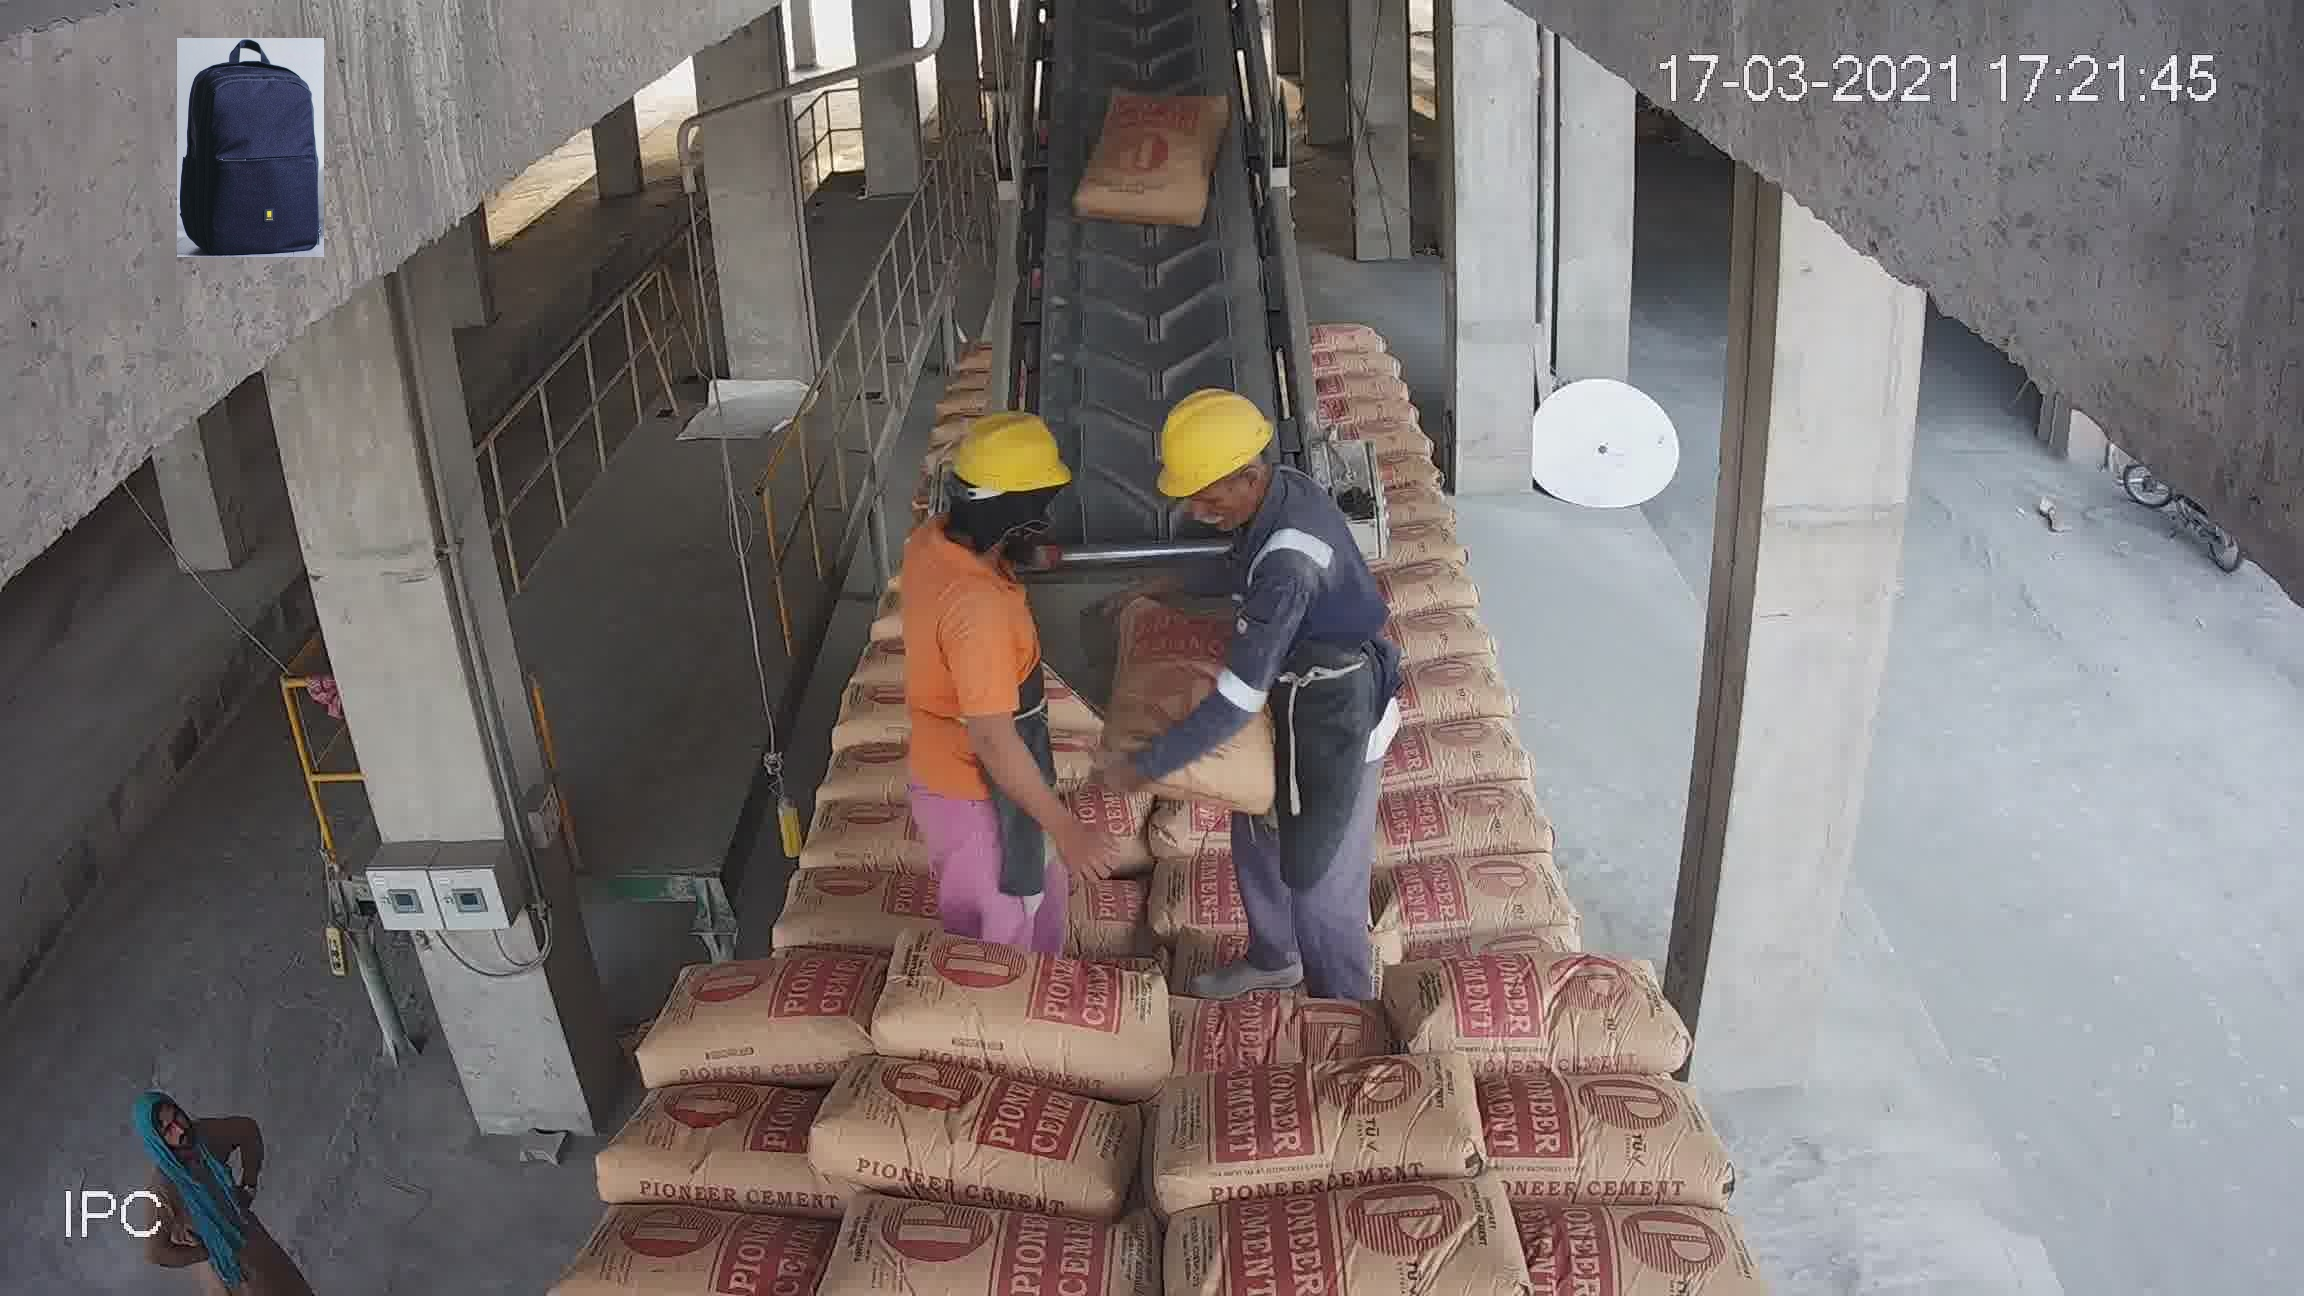bag_h: (1124, 1029, 1465, 1211), (1161, 1155, 1549, 1296), (798, 1076, 1157, 1188), (1147, 805, 1434, 946), (815, 1174, 1150, 1293), (878, 937, 1138, 1089), (1150, 927, 1446, 1055), (1146, 715, 1397, 850), (635, 946, 888, 1074), (886, 820, 1150, 938), (536, 1196, 845, 1296), (579, 1070, 798, 1203), (1513, 1055, 1734, 1180), (1480, 945, 1677, 1084), (881, 748, 1171, 837), (1435, 840, 1649, 954), (1543, 1192, 1771, 1283), (663, 870, 894, 961), (1388, 767, 1630, 839), (1006, 649, 1188, 734), (1150, 597, 1320, 677), (1002, 714, 1195, 783), (728, 790, 897, 869), (1161, 650, 1328, 722), (1160, 563, 1336, 623), (1021, 565, 1176, 627), (1184, 497, 1320, 567), (999, 617, 1169, 668), (897, 502, 1033, 551), (904, 453, 1017, 506), (923, 552, 1033, 581)
belt: (1019, 11, 1294, 503)
